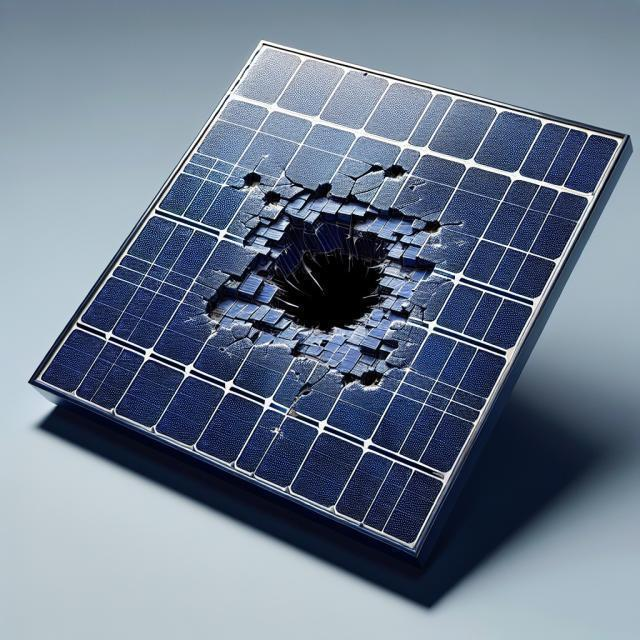Anomaly Solar Panel: (37, 0, 622, 568)
Structural Damage: (189, 150, 463, 406), (352, 159, 411, 184), (228, 164, 272, 197)
